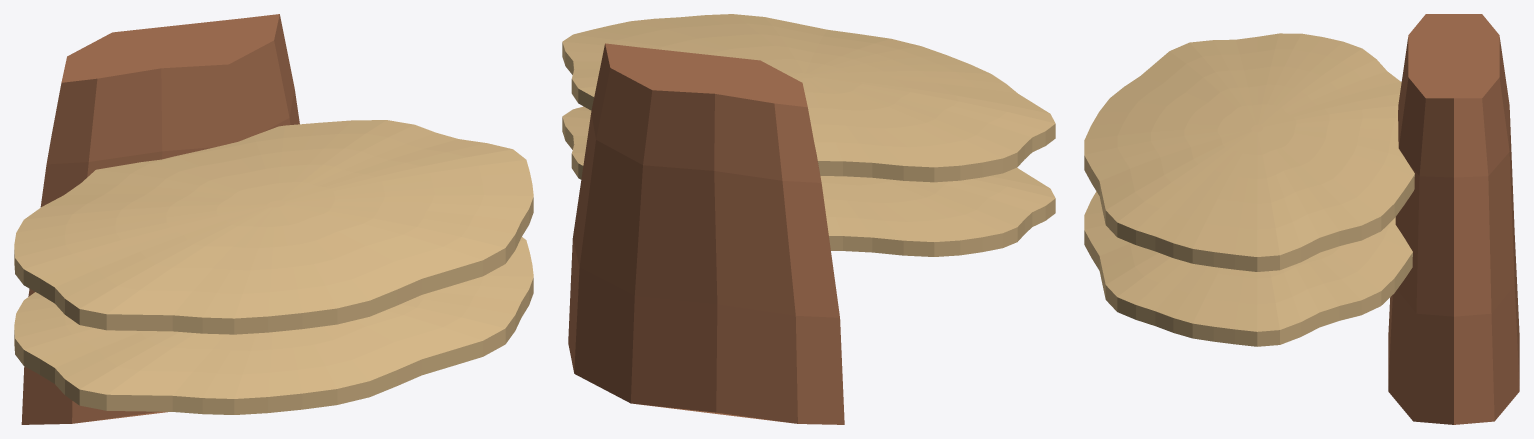
File: cave-shield.glb
The picture shows the model from 3 angles, left to right: view 1: azimuth 30°, elevation 25°; view 2: azimuth 150°, elevation 25°; view 3: azimuth 270°, elevation 25°; orthographic projection. The views are drawn at different scales.
Parts seen in each view (by area): view 1: Upper calcite shield plate, Lower calcite shield plate, Supporting cave wall attachment; view 2: Supporting cave wall attachment, Upper calcite shield plate, Lower calcite shield plate; view 3: Upper calcite shield plate, Supporting cave wall attachment, Lower calcite shield plate.
Part boxes in pixels (x1,y1,x2,y2): Upper calcite shield plate: [14, 120, 533, 334]; Lower calcite shield plate: [14, 237, 533, 414]; Supporting cave wall attachment: [21, 14, 299, 424]; Supporting cave wall attachment: [568, 43, 844, 424]; Upper calcite shield plate: [562, 14, 1055, 182]; Lower calcite shield plate: [562, 106, 1055, 256]; Upper calcite shield plate: [1084, 33, 1414, 271]; Supporting cave wall attachment: [1388, 14, 1519, 424]; Lower calcite shield plate: [1084, 191, 1412, 346].
Bounding box in the file's own units: 0.9888 × 0.67 × 0.8188.
